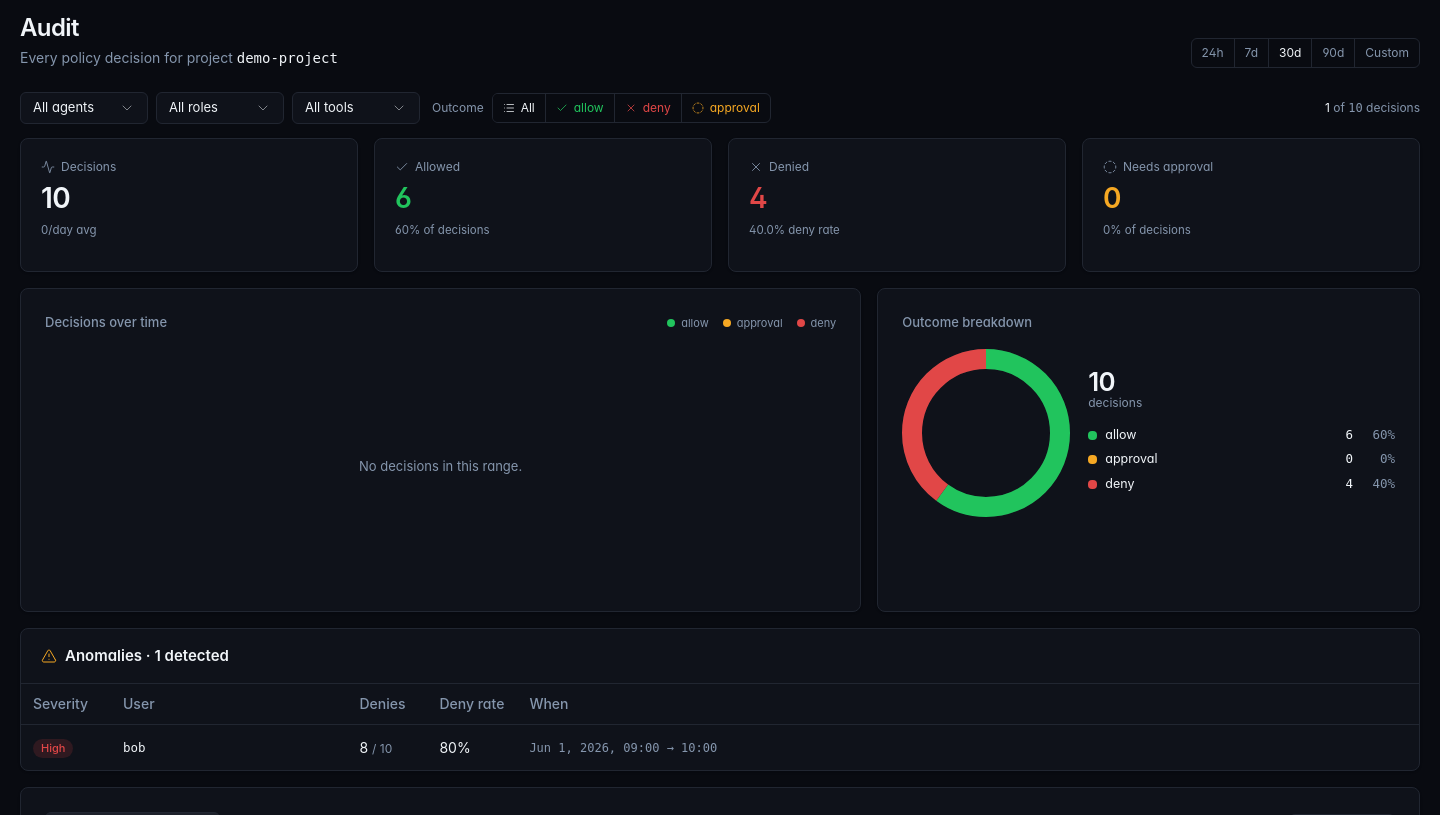
Test case: AuditPage › AnomaliesCard › row click sets date range and user filter; user= appears in decisions query
The image size is (1440, 815).
Click the text "bob" at (134, 747), box [111,724,347,770]
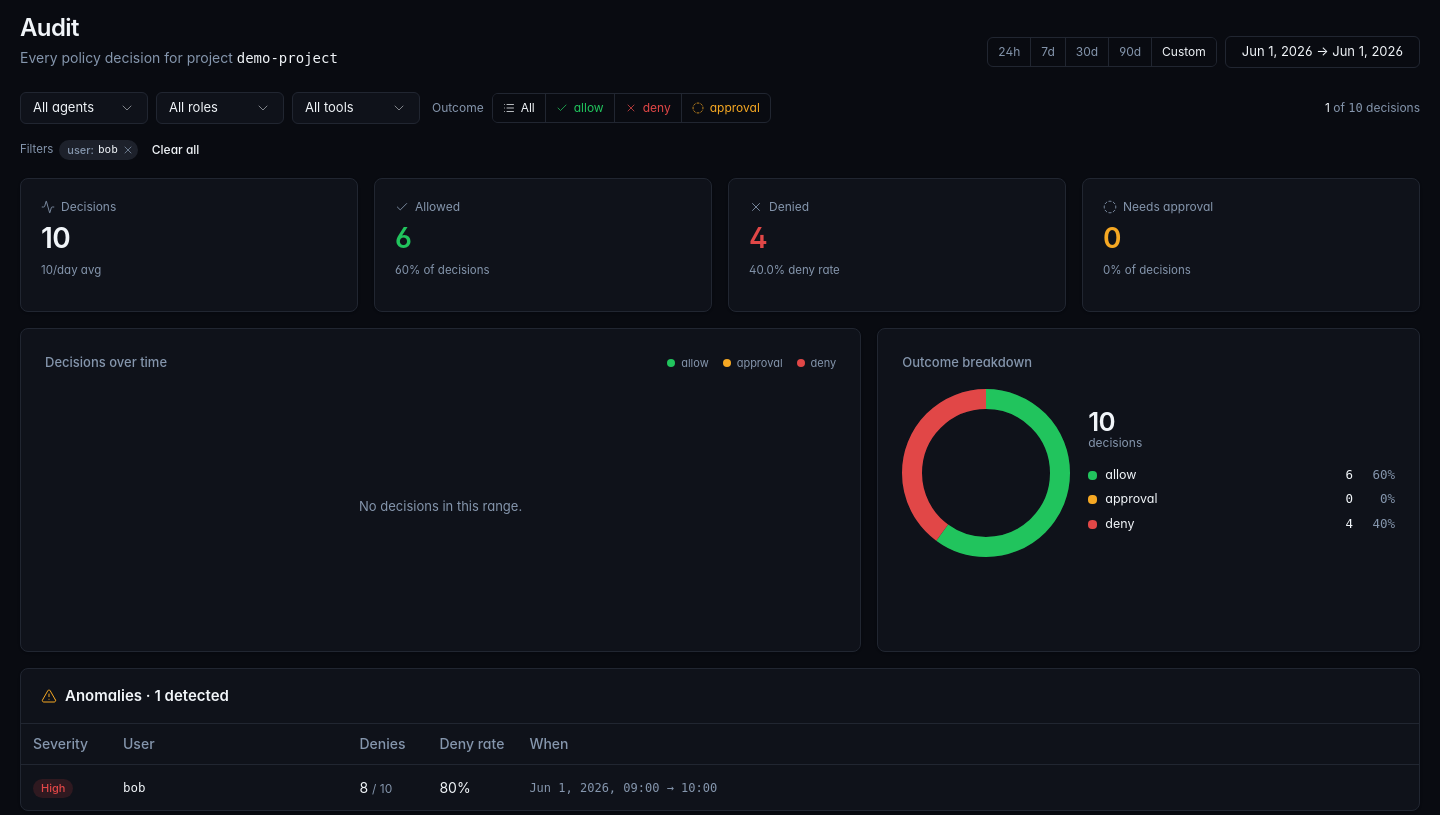
Now the text "bob" is shown, box [98,142,118,158]
Now the button "Clear all" is shown, box [144,138,207,162]
